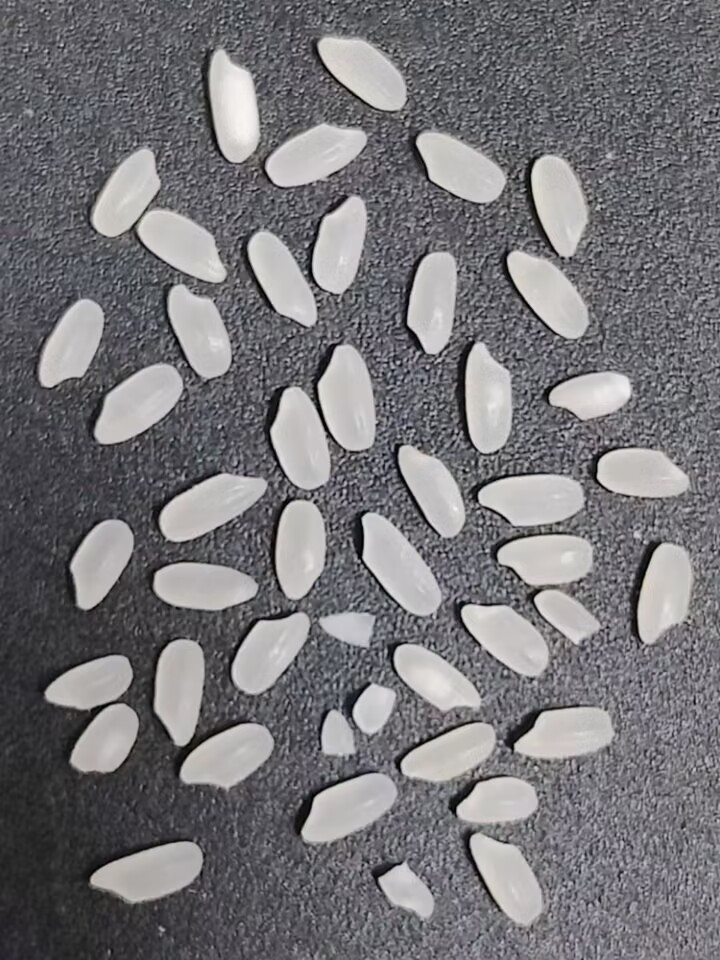broken: (534, 589, 601, 644), (377, 861, 434, 919), (351, 680, 398, 736), (318, 609, 375, 650), (319, 707, 356, 758)
rice: (361, 510, 442, 617), (133, 205, 233, 286), (468, 468, 591, 532), (158, 472, 268, 543), (389, 720, 502, 789), (387, 642, 487, 719), (313, 339, 379, 454), (506, 249, 589, 339), (93, 364, 182, 445), (246, 229, 318, 328), (469, 830, 544, 925), (90, 841, 203, 904), (229, 611, 311, 697), (486, 531, 605, 589), (415, 130, 507, 204), (265, 122, 368, 188), (317, 37, 407, 112), (300, 772, 395, 843), (271, 495, 331, 607), (268, 385, 331, 490), (398, 445, 468, 539), (461, 604, 549, 678), (90, 148, 162, 238), (167, 283, 232, 381), (179, 723, 274, 789), (37, 297, 105, 389), (69, 517, 135, 611), (208, 46, 260, 165), (530, 154, 588, 258), (637, 542, 693, 645), (405, 250, 458, 357), (311, 194, 367, 293), (464, 341, 512, 455), (154, 638, 203, 749), (514, 706, 613, 759), (152, 562, 259, 611), (68, 703, 139, 774), (43, 654, 133, 709), (596, 447, 690, 498), (548, 370, 632, 421), (455, 776, 538, 826)
